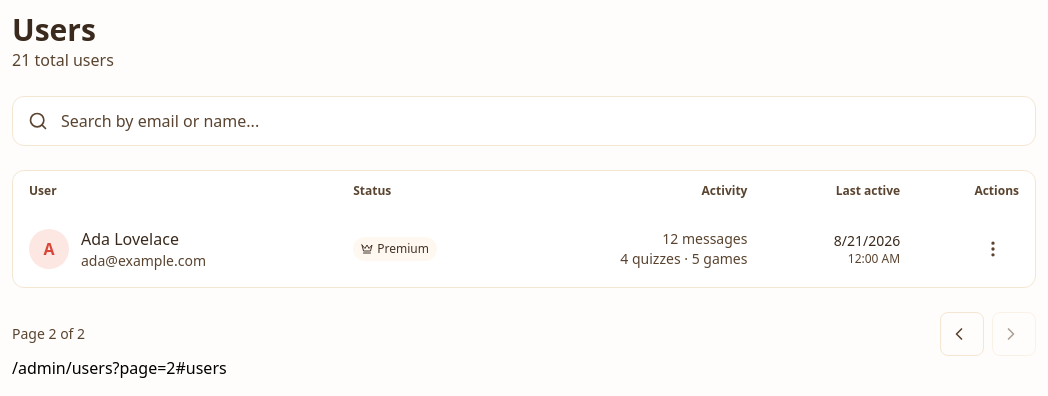
Test: restorable admin user navigation › writes a debounced search to the URL and resets pagination
Type "ada" into the field named "Search users" at (524, 121), box left=12, top=96, right=1036, bottom=146
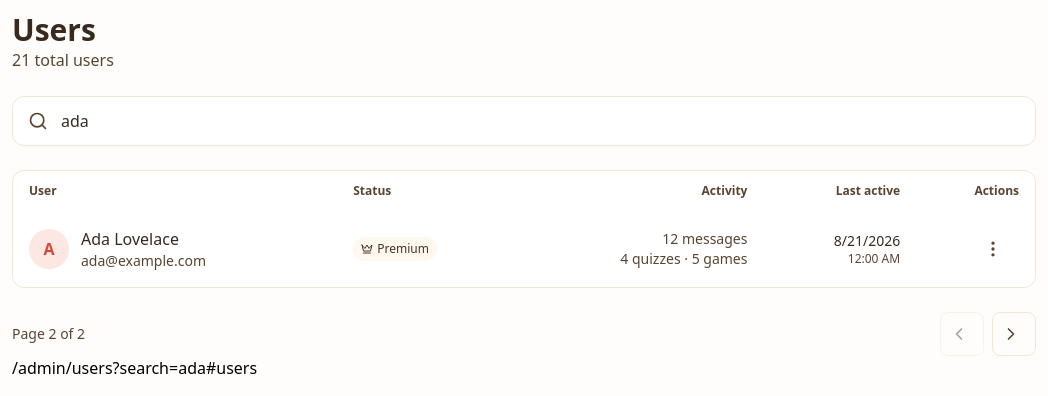
Expected: the text with test id "location" reads "/admin/users?search=ada#users", left=12, top=357, right=257, bottom=379
